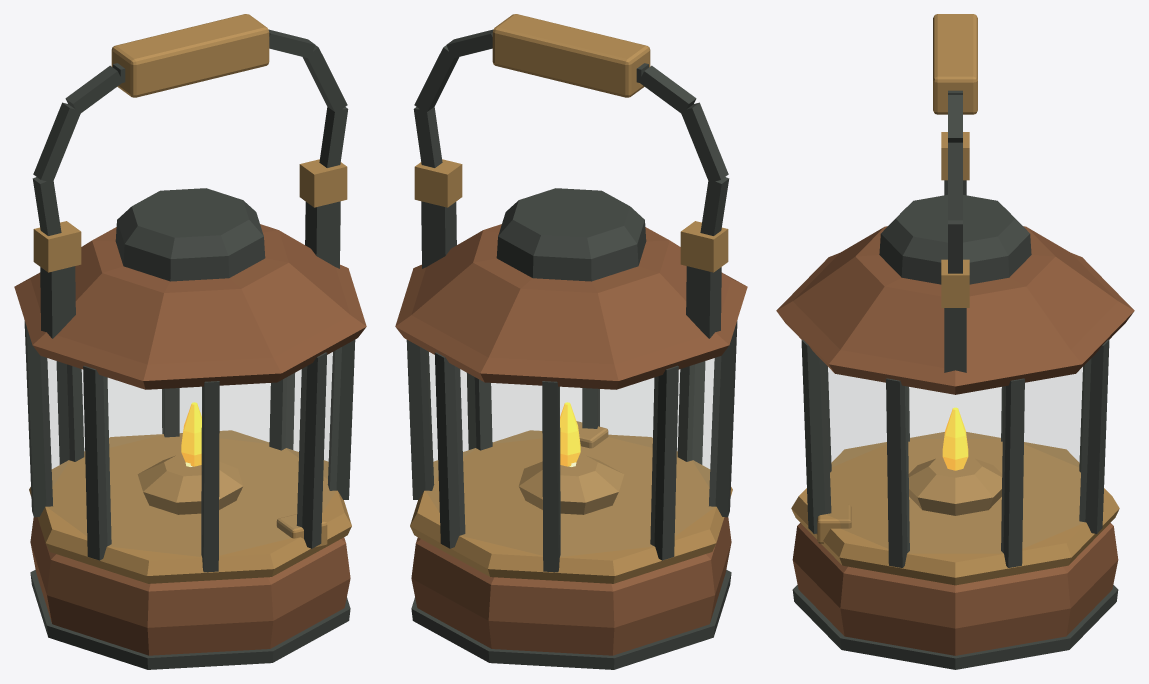
File: player-lantern.glb
3 views of the same model, side by side, from view 1: azimuth 30°, elevation 25°; view 2: azimuth 150°, elevation 25°; view 3: azimuth 270°, elevation 25° (orthographic).
Visible parts, largest first — view 1: Copper lantern and cage, Carry handle, Glass panels, Amber flame; view 2: Copper lantern and cage, Carry handle, Glass panels, Amber flame; view 3: Copper lantern and cage, Glass panels, Carry handle, Amber flame.
Boxes of the visible parts, x1=… form: Copper lantern and cage: x1=14, y1=159, x2=366, y2=669; Carry handle: x1=32, y1=14, x2=348, y2=235; Glass panels: x1=47, y1=352, x2=332, y2=487; Amber flame: x1=181, y1=402, x2=201, y2=466; Copper lantern and cage: x1=395, y1=159, x2=747, y2=669; Carry handle: x1=413, y1=14, x2=729, y2=235; Glass panels: x1=429, y1=352, x2=714, y2=487; Amber flame: x1=560, y1=402, x2=580, y2=466; Copper lantern and cage: x1=776, y1=132, x2=1134, y2=669; Glass panels: x1=828, y1=367, x2=1082, y2=466; Carry handle: x1=933, y1=14, x2=977, y2=273; Amber flame: x1=942, y1=407, x2=968, y2=470.
Bounding box in the file's own units: 0.24 × 0.417 × 0.24.
